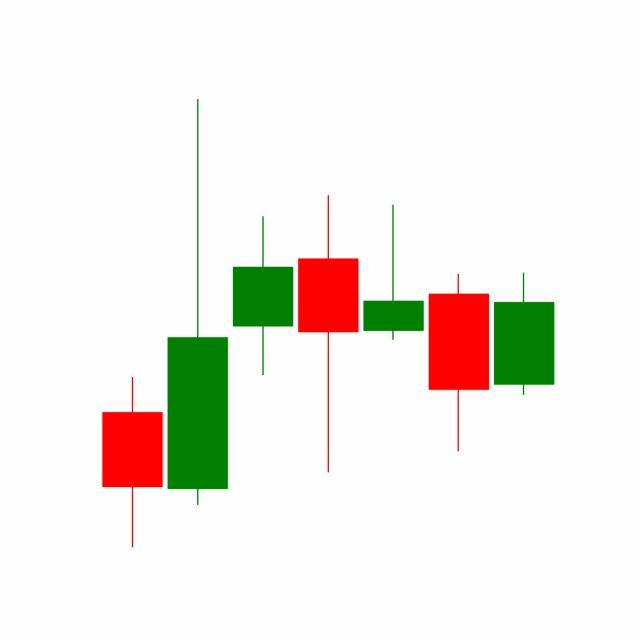Hikkake Pattern: (165, 99, 492, 510)
